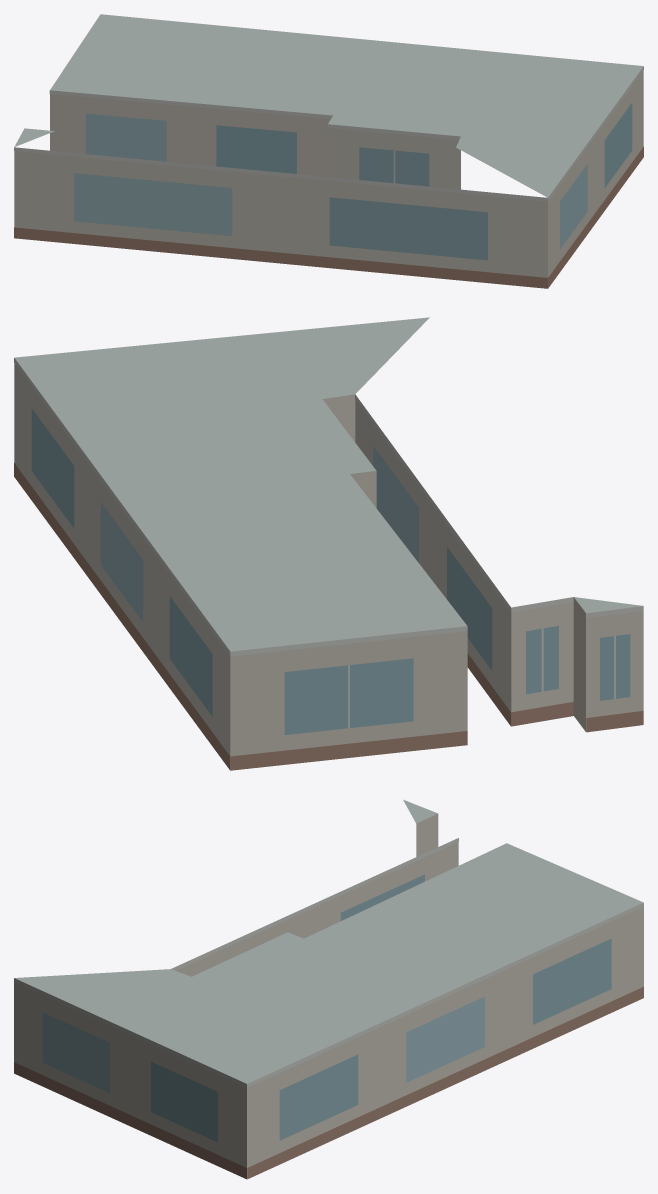
Rendered from survey-upis-32749953.glb.
3 views of the same model, one above another, from view 1: azimuth 30°, elevation 25°; view 2: azimuth 150°, elevation 25°; view 3: azimuth 270°, elevation 25° (orthographic). The views are drawn at different scales.
Parts seen in each view (by area): view 1: survey-upis-32749953.tmp; view 2: survey-upis-32749953.tmp; view 3: survey-upis-32749953.tmp.
Part boxes in pixels (x1,y1,x2,y2): survey-upis-32749953.tmp: (14, 14, 643, 288); survey-upis-32749953.tmp: (14, 317, 643, 770); survey-upis-32749953.tmp: (14, 799, 643, 1179).
Bounding box in the file's own units: 19.5 × 3.05 × 18.25.
